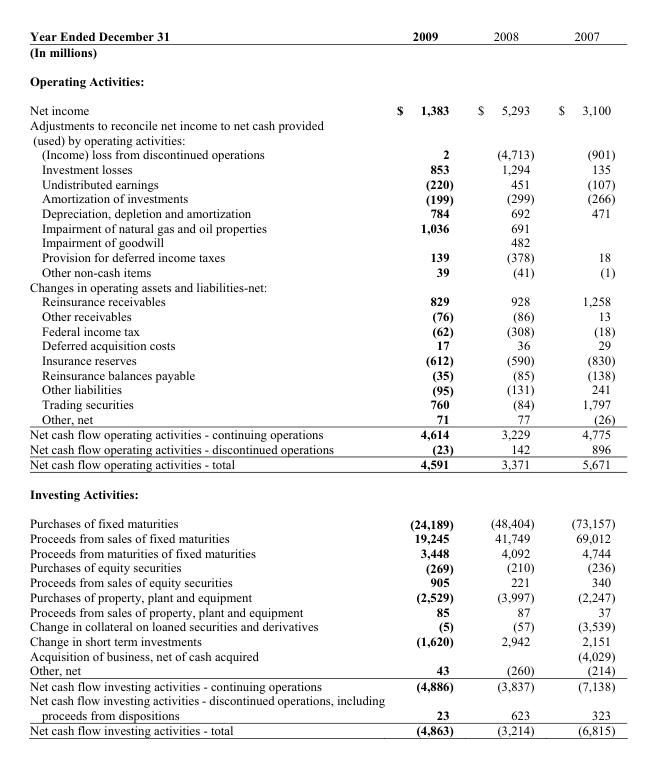table: (28, 28, 614, 737)
table column: (28, 28, 390, 737), (464, 28, 545, 737), (390, 28, 464, 737), (545, 28, 614, 737)
table column header: (28, 28, 614, 43)
table projected row header: (28, 478, 614, 508), (28, 66, 614, 95), (28, 117, 614, 146), (28, 43, 614, 66), (28, 278, 614, 293)
table row: (28, 478, 614, 508), (28, 692, 614, 722), (28, 66, 614, 95), (28, 117, 614, 146), (28, 43, 614, 66), (28, 95, 614, 117), (28, 456, 614, 478), (28, 508, 614, 530), (28, 28, 614, 43), (28, 146, 614, 161), (28, 161, 614, 176), (28, 190, 614, 205), (28, 205, 614, 220), (28, 234, 614, 249), (28, 249, 614, 264), (28, 278, 614, 293), (28, 293, 614, 308), (28, 308, 614, 323), (28, 337, 614, 352), (28, 352, 614, 367), (28, 381, 614, 396), (28, 396, 614, 411), (28, 411, 614, 426), (28, 426, 614, 441), (28, 441, 614, 456), (28, 530, 614, 545), (28, 559, 614, 574), (28, 574, 614, 589), (28, 603, 614, 618), (28, 618, 614, 633), (28, 633, 614, 648), (28, 662, 614, 677), (28, 677, 614, 692), (28, 722, 614, 737), (28, 176, 614, 190), (28, 220, 614, 234), (28, 264, 614, 278), (28, 323, 614, 337), (28, 367, 614, 381), (28, 545, 614, 559), (28, 589, 614, 603), (28, 648, 614, 662)
